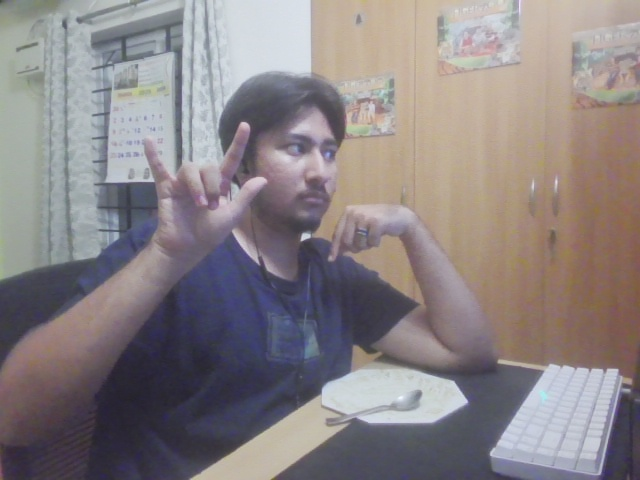iloveyou: (138, 117, 274, 264)
